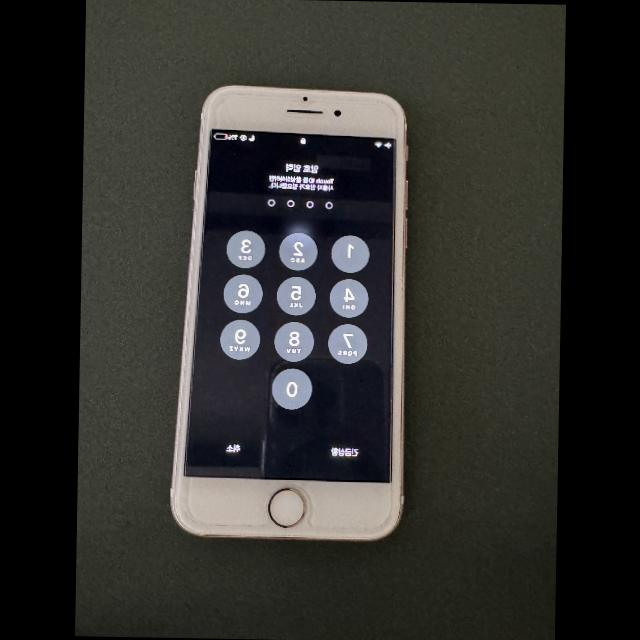lens: (303, 96, 307, 101)
phone: (171, 85, 407, 540)
